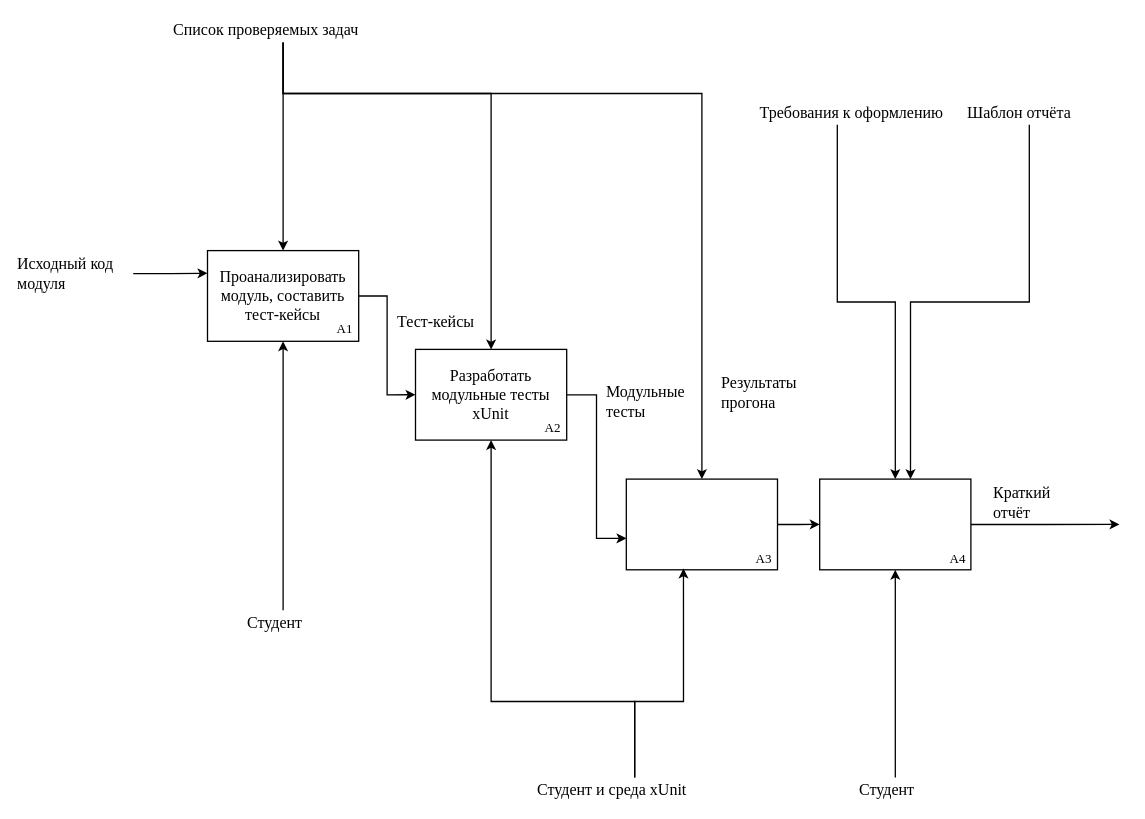
Some shapes in this 1145 by 819 pixel diagram are drawn without their labels. Each missing label, with the box of its shape:
Выполнить тесты, зафиксировать результаты: (625, 478, 778, 570)
Оформить краткий отчёт: (819, 478, 971, 570)
